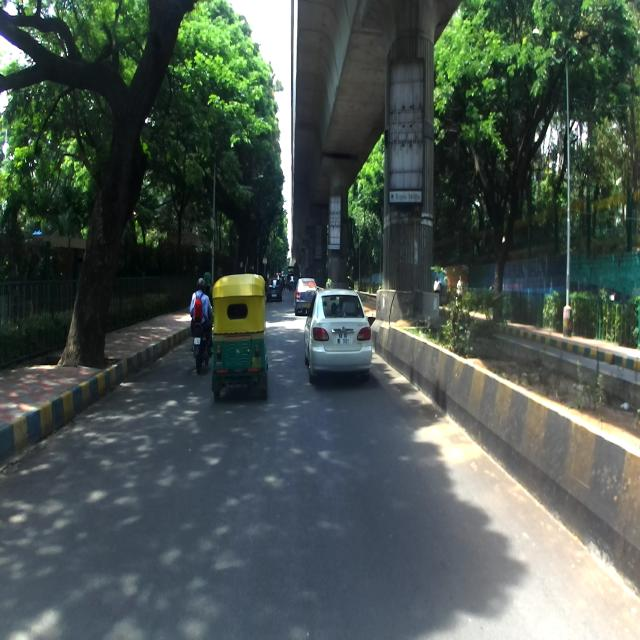auto ahead at: (212, 275, 272, 402)
car ahead at: (312, 289, 371, 374)
tree ahead at: (69, 72, 146, 370)
